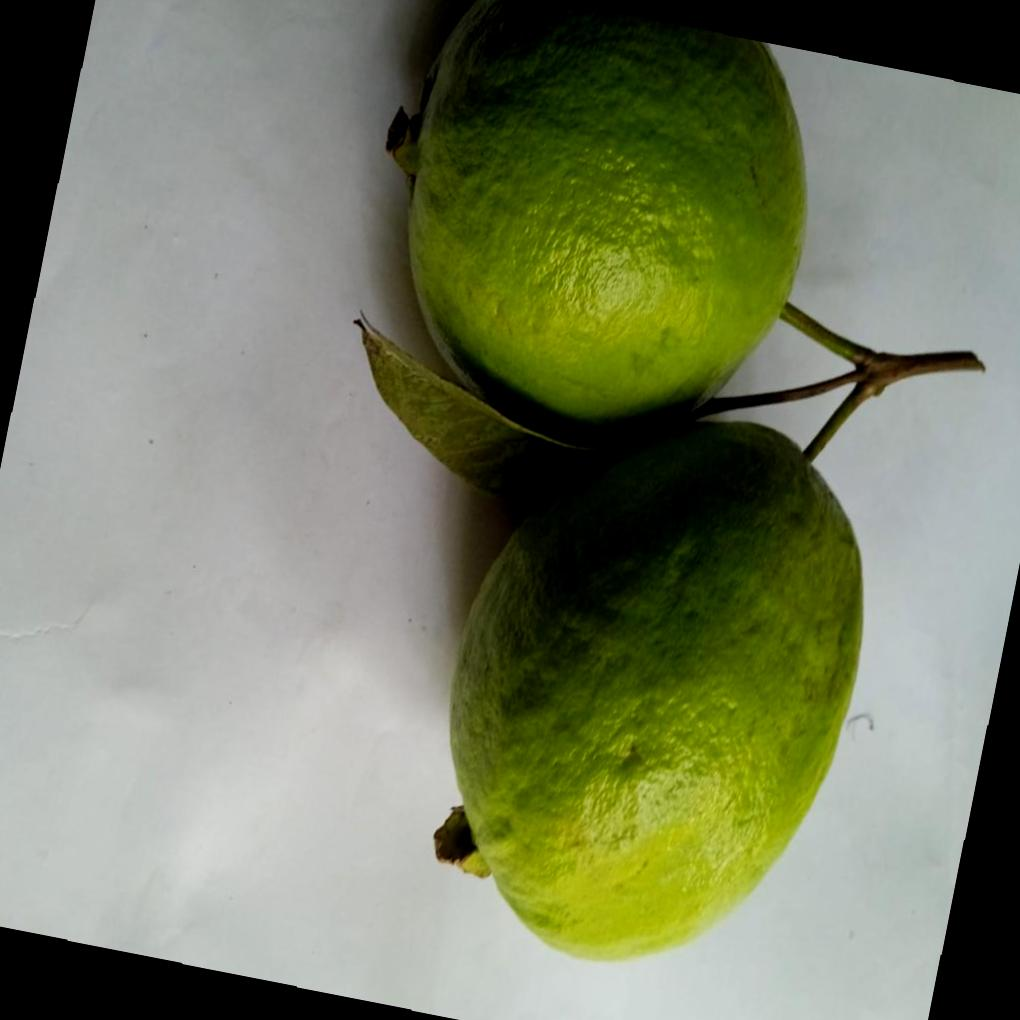FreshGuava: (364, 0, 968, 965)
